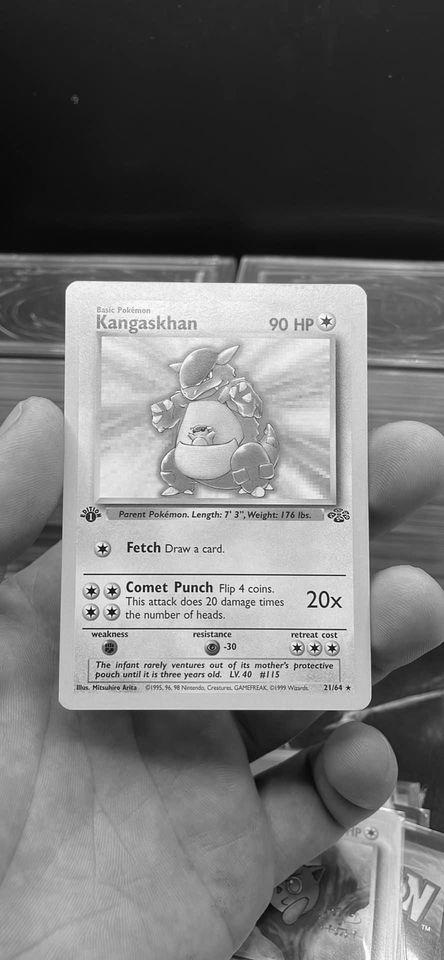card: (59, 279, 372, 711)
